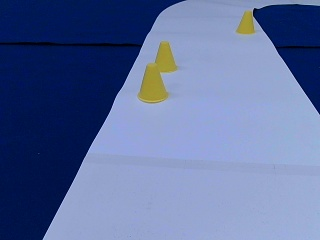cone: (138, 64, 169, 102), (154, 42, 177, 73), (236, 11, 254, 34)
